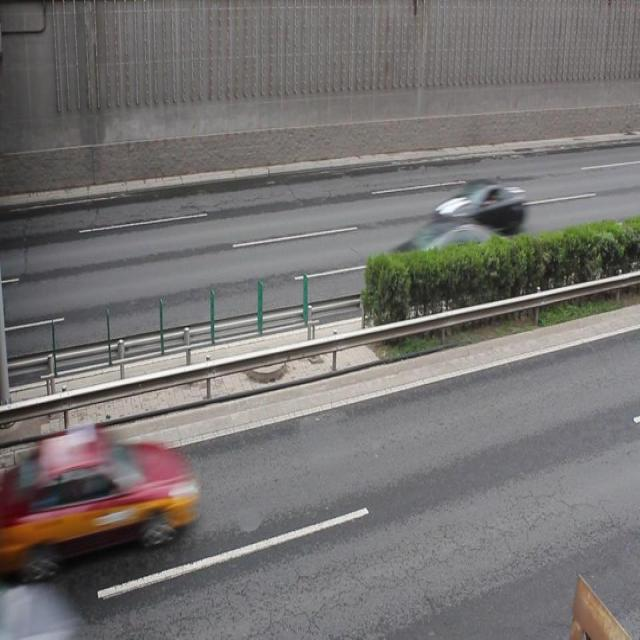car: (23, 421, 195, 565), (386, 217, 504, 299), (433, 178, 525, 237)
